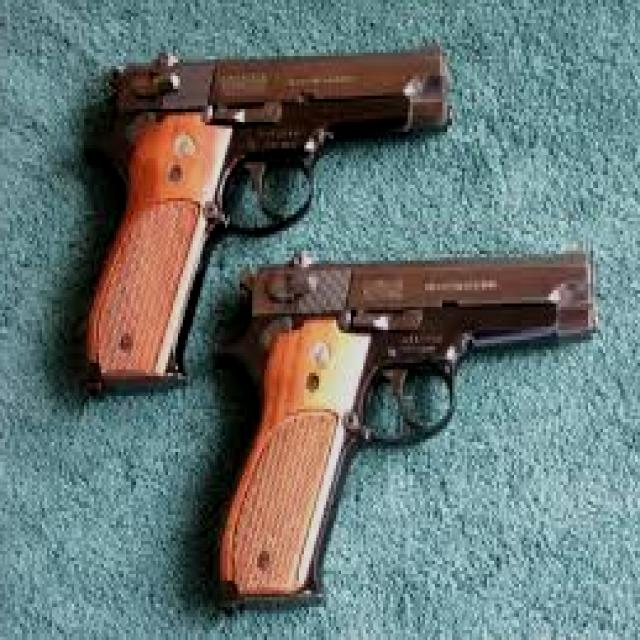pistol: (205, 244, 603, 607), (79, 36, 457, 399)
